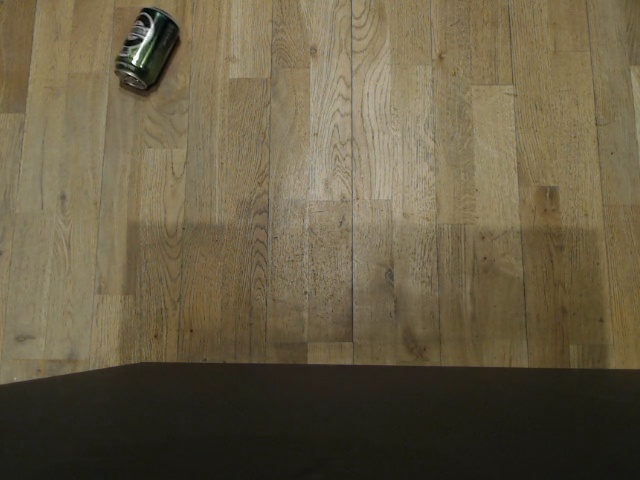beer: (110, 3, 182, 93)
